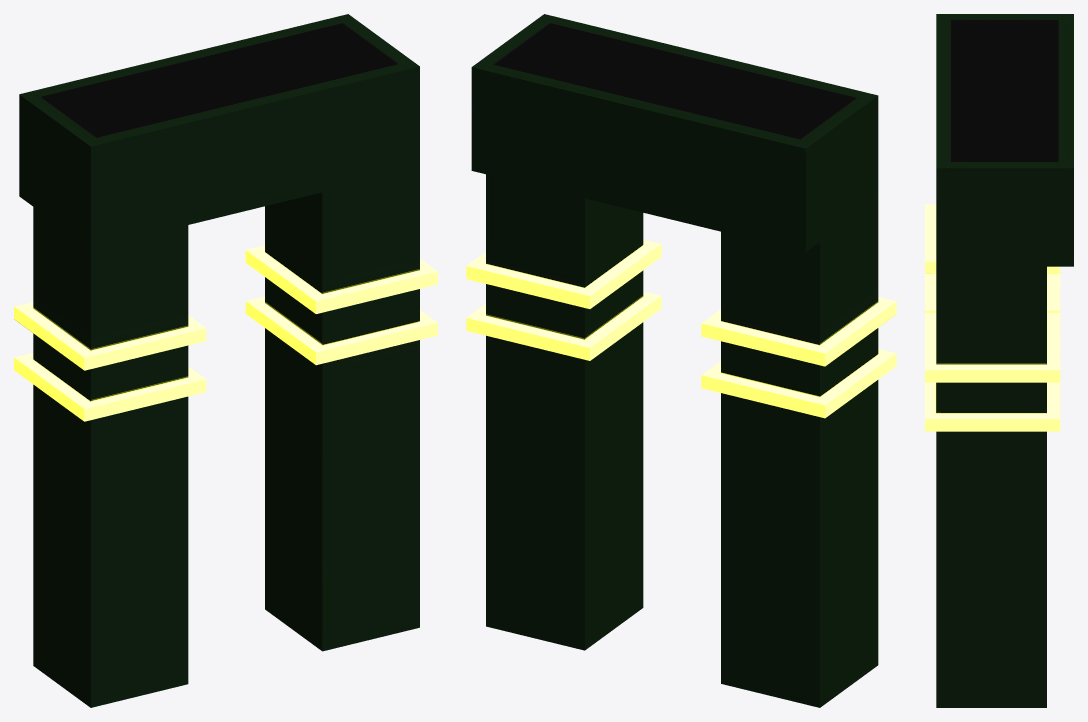
The model's file is pants_led_yellow.glb.
3 renders of one model, left to right at view 1: azimuth 30°, elevation 25°; view 2: azimuth 150°, elevation 25°; view 3: azimuth 270°, elevation 25°, orthographic. The views are drawn at different scales.
Visible parts, largest first — view 1: led_Pants.002; view 2: led_Pants.002; view 3: led_Pants.002.
Part boxes in pixels (x1=…): led_Pants.002: x1=14, y1=14, x2=437, y2=707; led_Pants.002: x1=466, y1=14, x2=896, y2=707; led_Pants.002: x1=925, y1=14, x2=1073, y2=707.
Size of the model in its own units: 2.9 by 4.4 by 1.1.
Materials: 1 (1 with a texture image).
